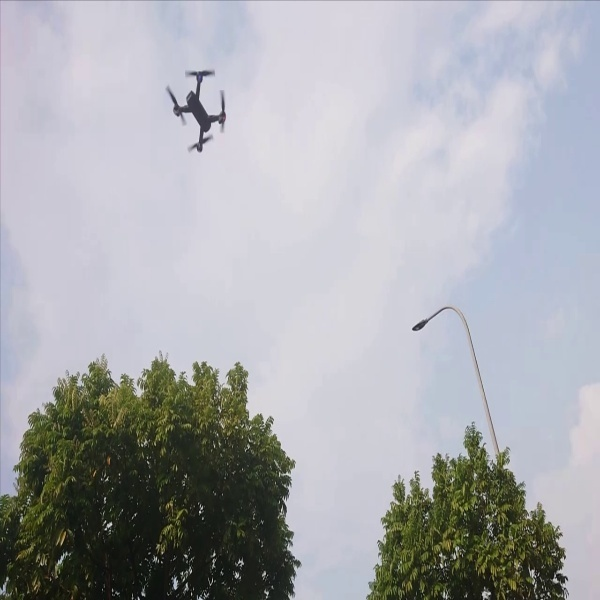drone: (156, 64, 233, 158)
